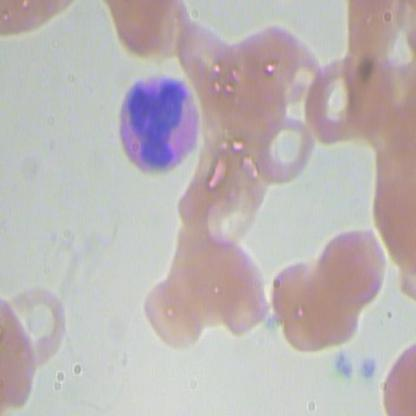Platelets: (333, 348, 357, 382), (357, 351, 380, 385)
RBC: (318, 218, 388, 310), (3, 277, 72, 370), (299, 56, 367, 149), (174, 15, 236, 101), (209, 252, 270, 339), (266, 251, 327, 338), (144, 273, 209, 352), (256, 110, 316, 186)
WBC: (107, 62, 206, 186)
